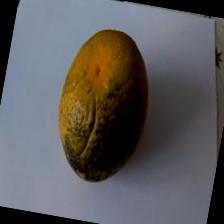Orange Rotten: (32, 11, 168, 202)
